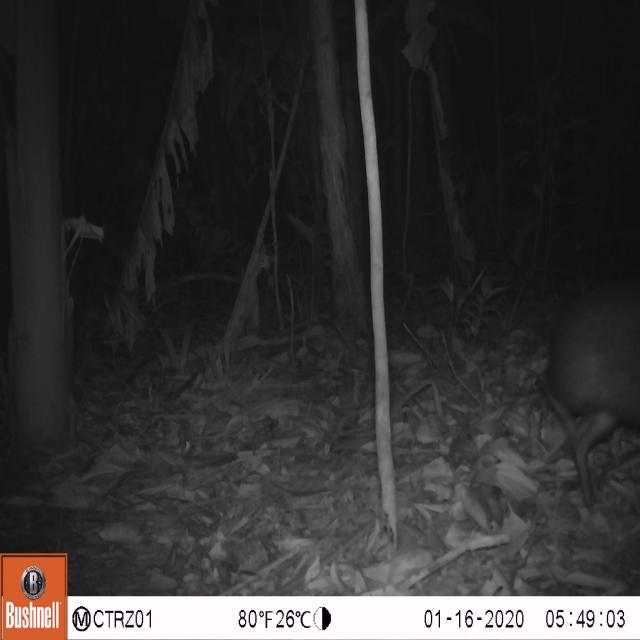Black Agouti: (519, 255, 640, 530)
